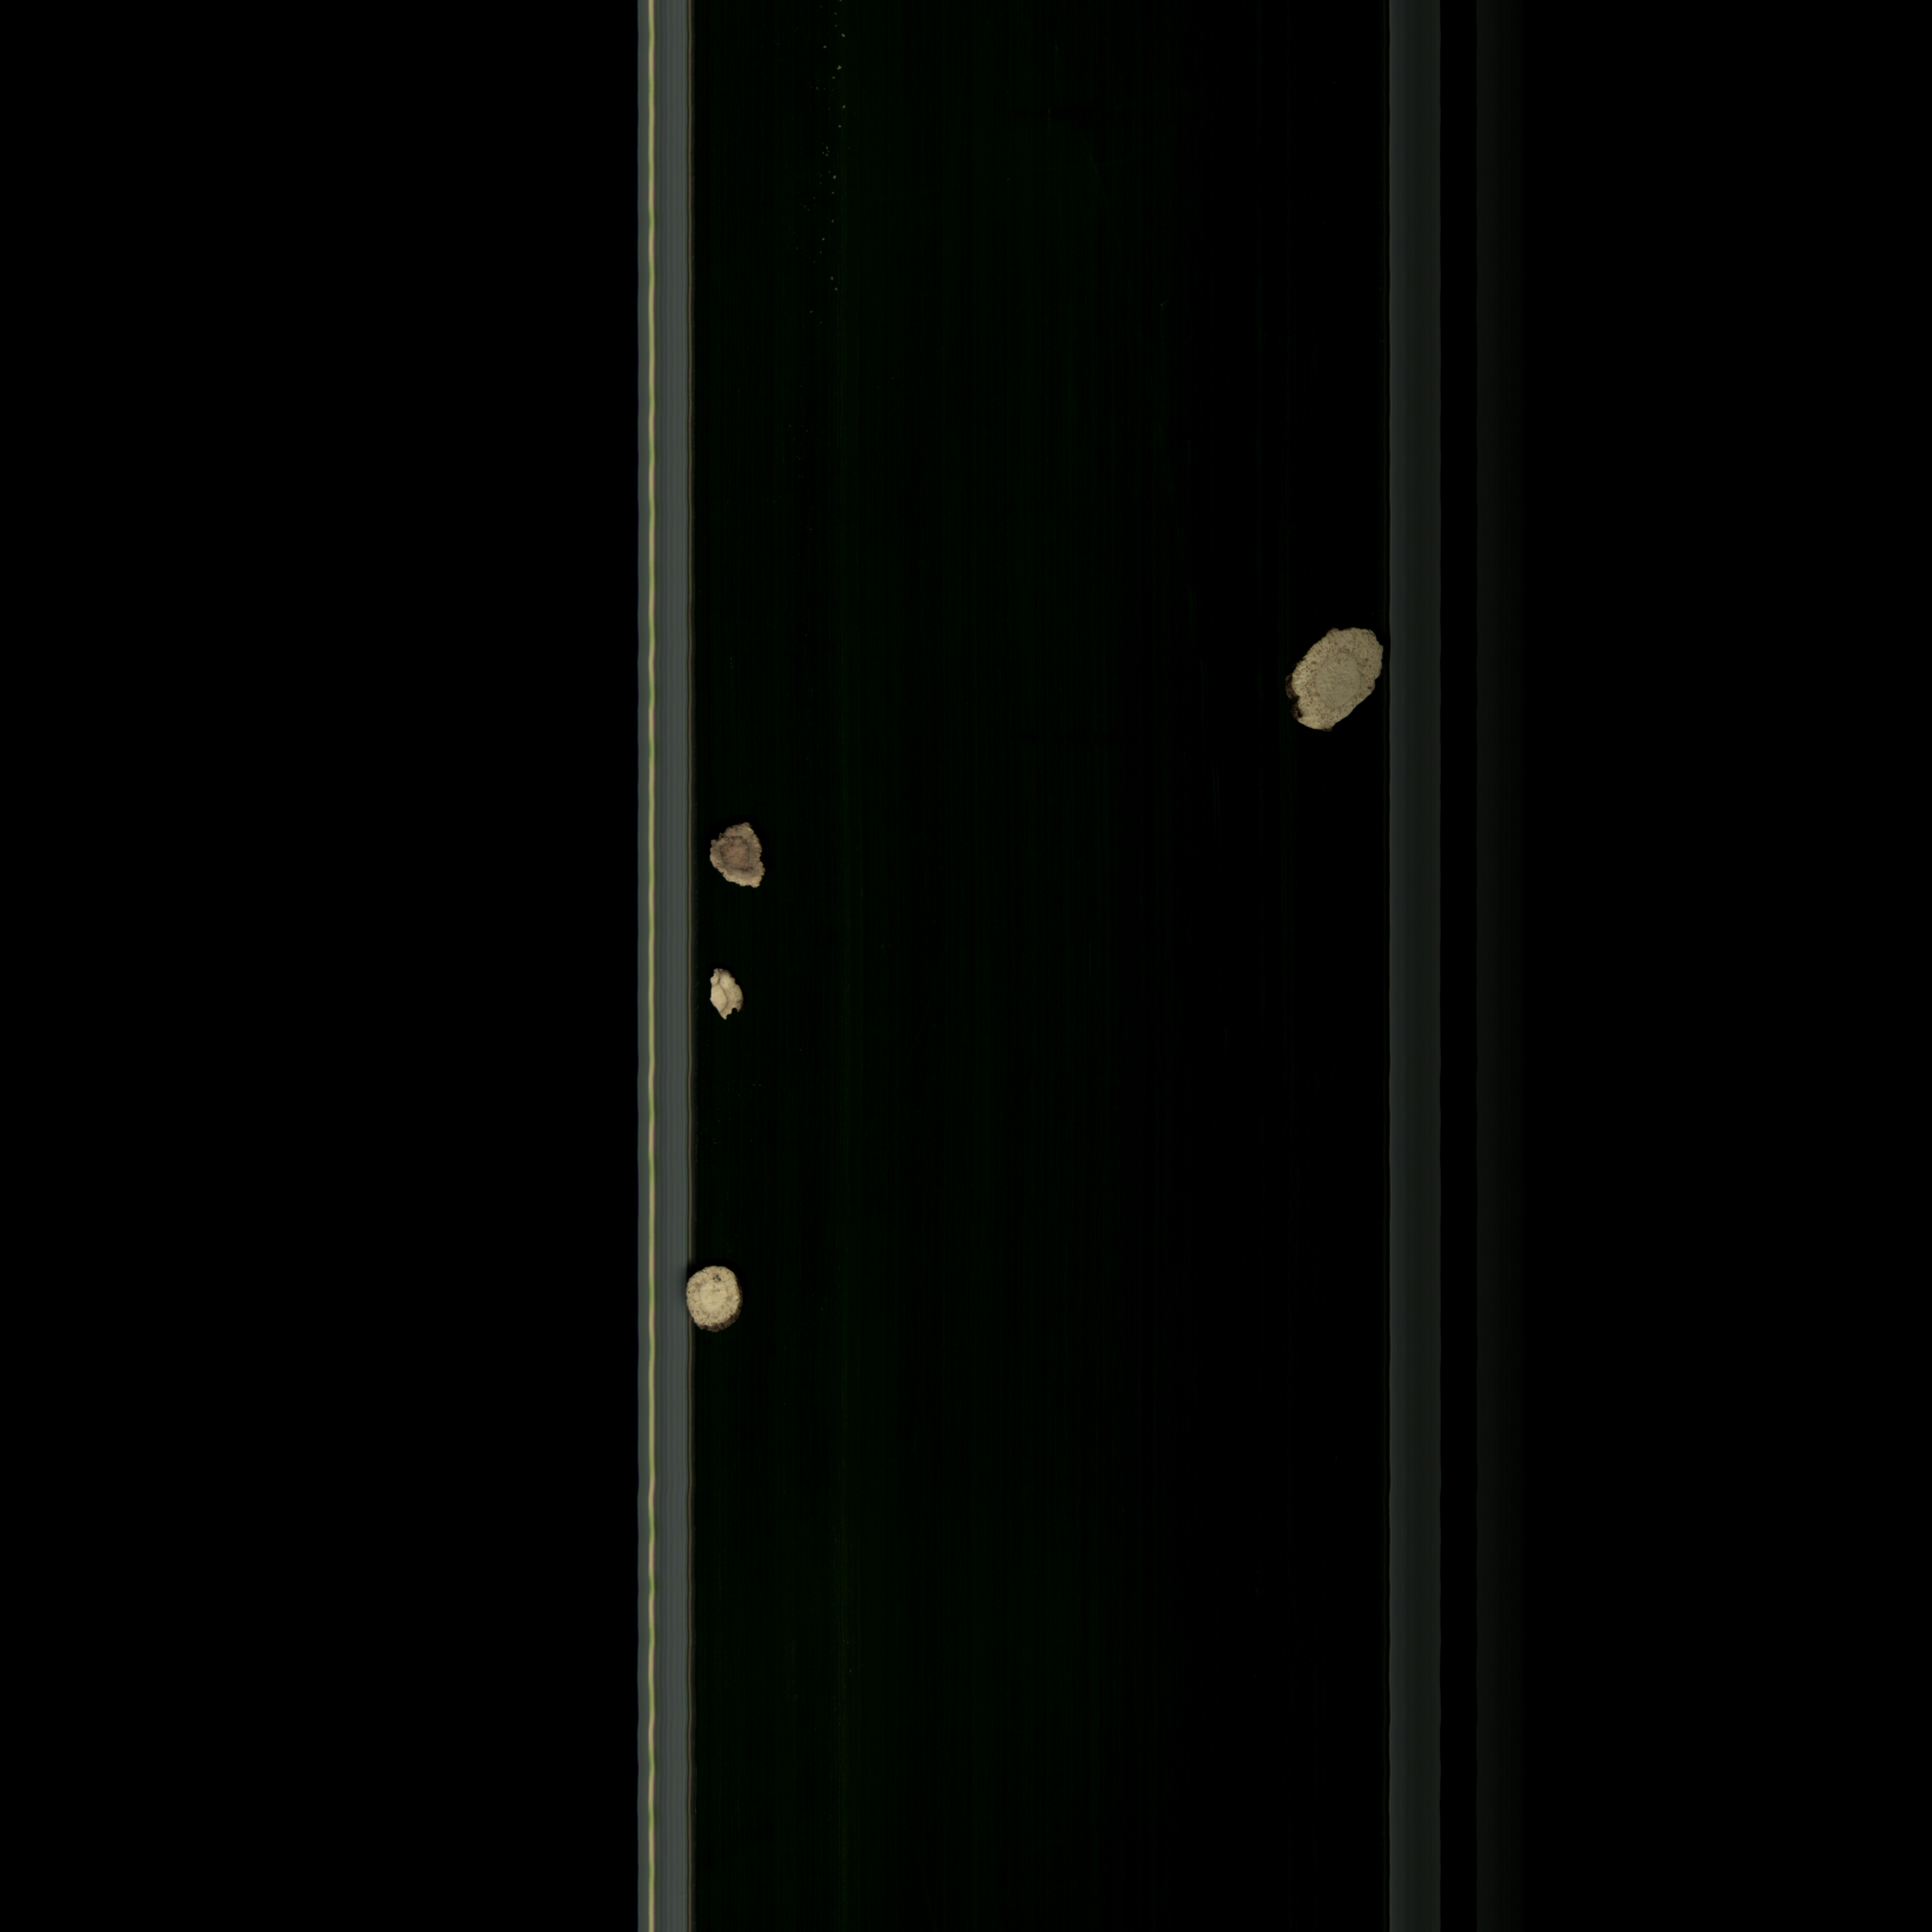debris: (702, 957, 759, 1031)
moldy: (1274, 619, 1396, 740), (704, 814, 770, 899)
